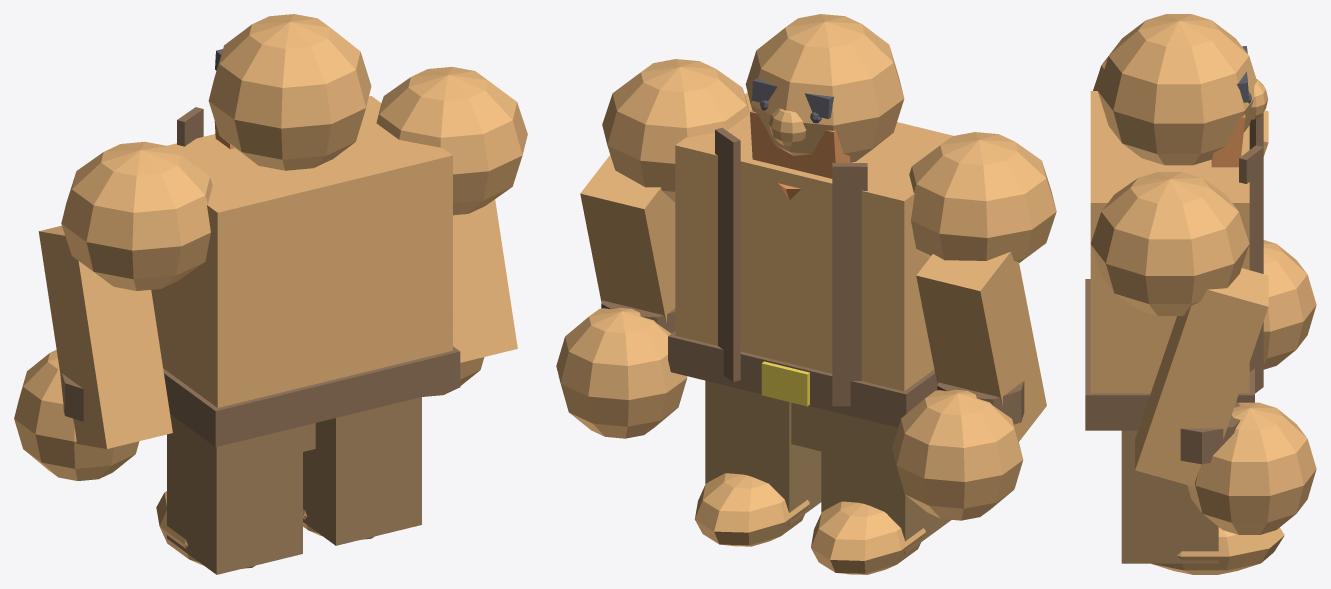
Rendered from giant.glb.
The picture shows the model from 3 angles, left to right: view 1: azimuth 30°, elevation 25°; view 2: azimuth 150°, elevation 25°; view 3: azimuth 270°, elevation 25°; orthographic projection. The views are drawn at different scales.
Visible parts, largest first — view 1: giant; view 2: giant; view 3: giant.
Boxes of the visible parts, box(x1,y1,x2,y2) form: giant: box(14, 14, 527, 574); giant: box(556, 14, 1056, 574); giant: box(1085, 14, 1316, 574).
Size of the model in its own units: 2.92 by 3.25 by 1.31.
